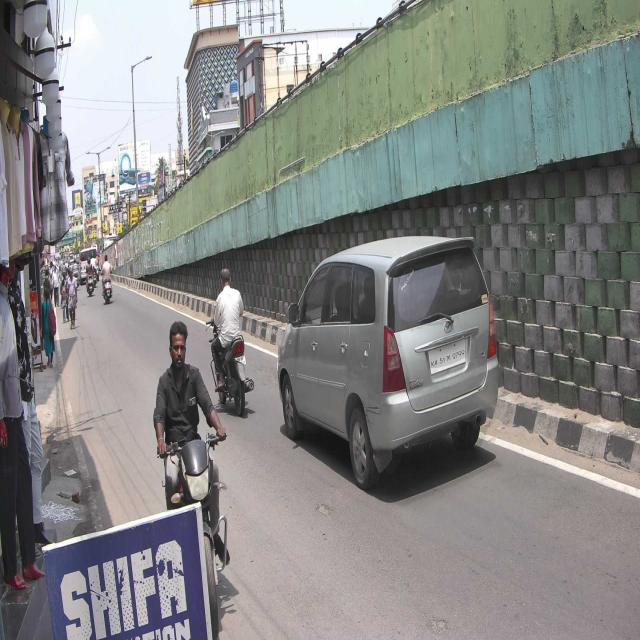single_rider: (154, 319, 222, 640), (209, 266, 252, 412)
